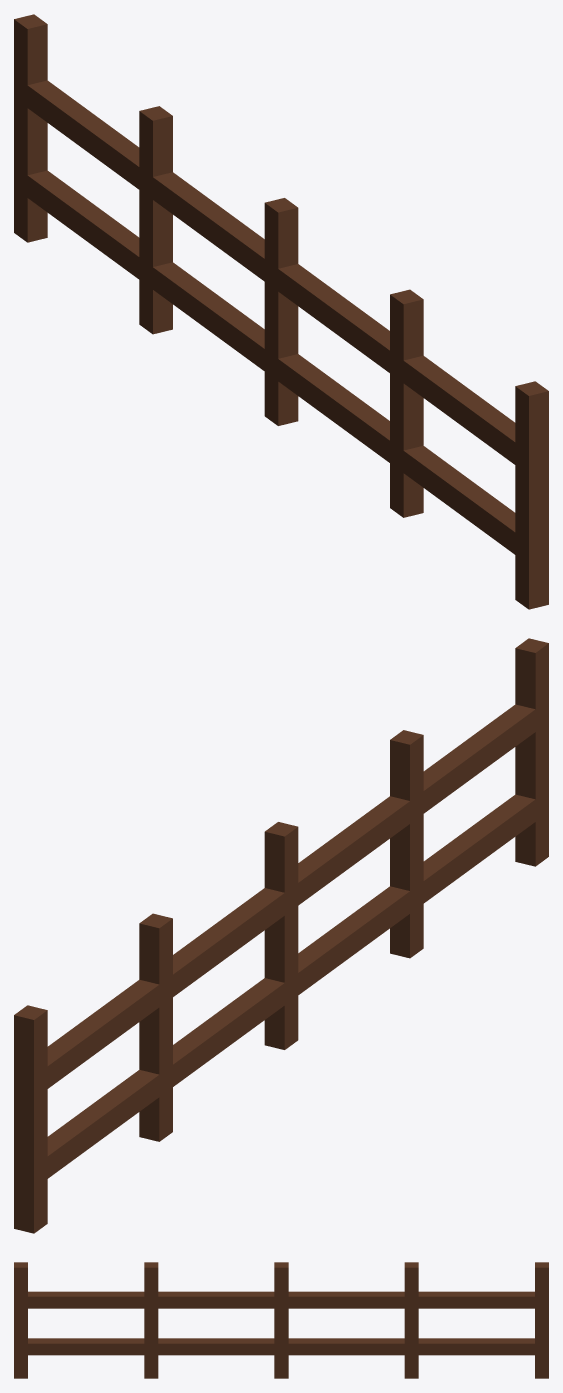
File: Staccionata 5 .fbx
3 renders of one model, top to bottom at view 1: azimuth 30°, elevation 25°; view 2: azimuth 150°, elevation 25°; view 3: azimuth 270°, elevation 25°, orthographic. The views are drawn at different scales.
Visible parts, largest first — view 1: Steccato 4; view 2: Steccato 4; view 3: Steccato 4.
Part boxes in pixels (left/top/right/bottom): Steccato 4: left=14, top=14, right=548, bottom=609; Steccato 4: left=14, top=638, right=548, bottom=1233; Steccato 4: left=14, top=1262, right=548, bottom=1378.
Size of the model in its own units: 18.74 by 189 by 826.
